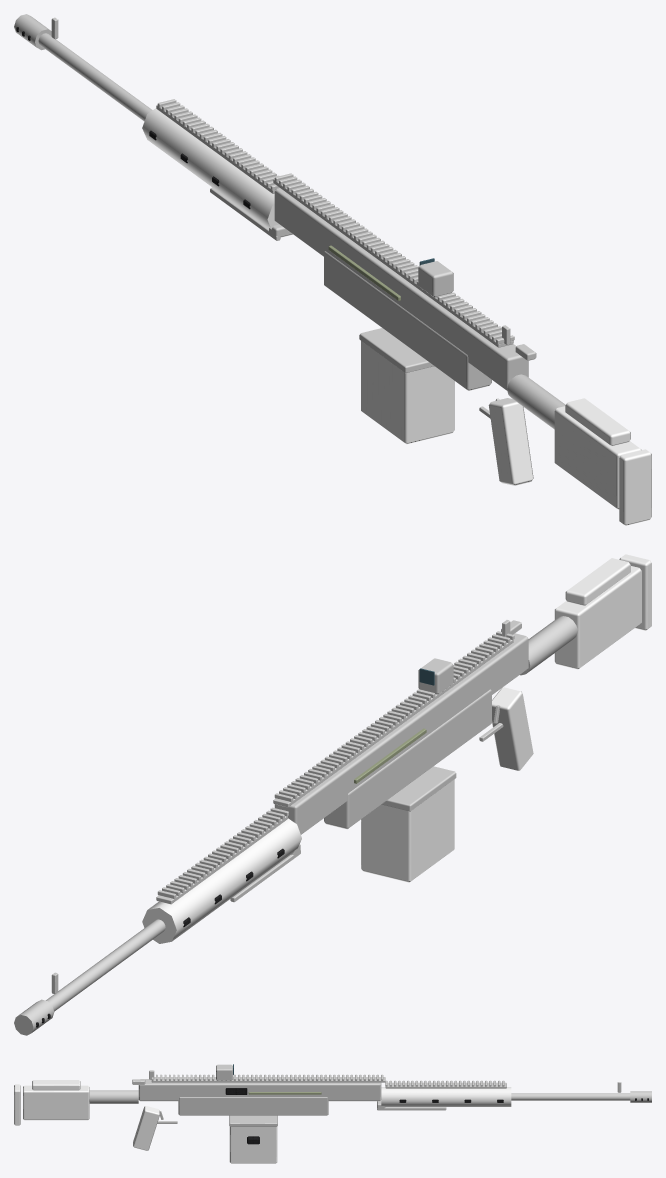
The model's file is torrent.glb.
The picture shows the model from 3 angles, top to bottom: view 1: azimuth 30°, elevation 25°; view 2: azimuth 150°, elevation 25°; view 3: azimuth 270°, elevation 25°; orthographic projection. The views are drawn at different scales.
Bounding box in the file's own units: 0.091 × 0.234 × 1.47.
5 materials, 1 textured.
